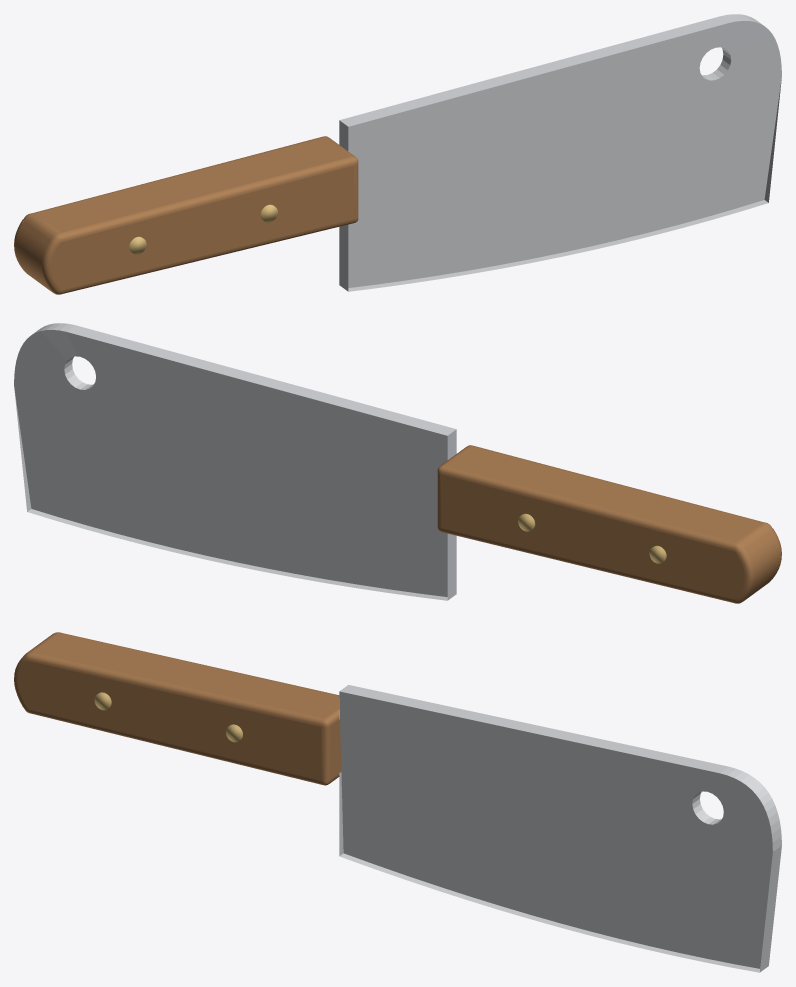
File: knife_cleaver.glb
The picture shows the model from 3 angles, top to bottom: view 1: azimuth 30°, elevation 25°; view 2: azimuth 150°, elevation 25°; view 3: azimuth 330°, elevation 25°; orthographic projection.
Parts seen in each view (by area): view 1: blade, handle; view 2: blade, handle; view 3: blade, handle.
Part boxes in pixels (left/top/right/bottom): blade: left=339, top=14, right=781, bottom=291; handle: left=14, top=136, right=358, bottom=294; blade: left=14, top=323, right=456, bottom=600; handle: left=437, top=445, right=781, bottom=603; blade: left=339, top=685, right=781, bottom=972; handle: left=14, top=632, right=341, bottom=785.
Size of the model in its own units: 0.285 by 0.0707 by 0.024.
